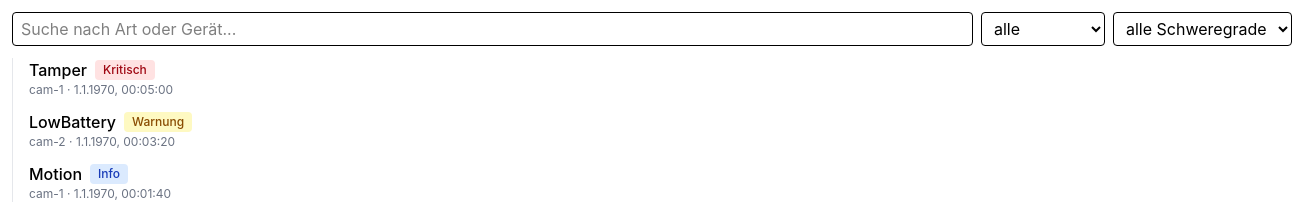
Test: EventHistory › filters by severity
Select "Kritisch" in the dropdown named "Nach Schweregrad filtern": (1202, 29) [1113, 12, 1292, 46]
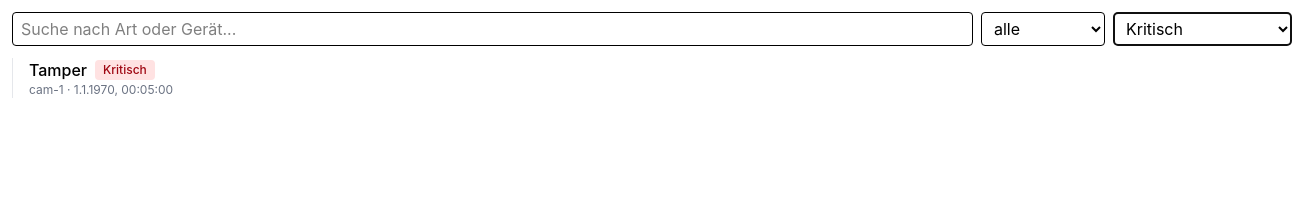
Check: the text "Tamper" is shown, box [29, 58, 87, 82]
Check: the text "Motion" is gone
